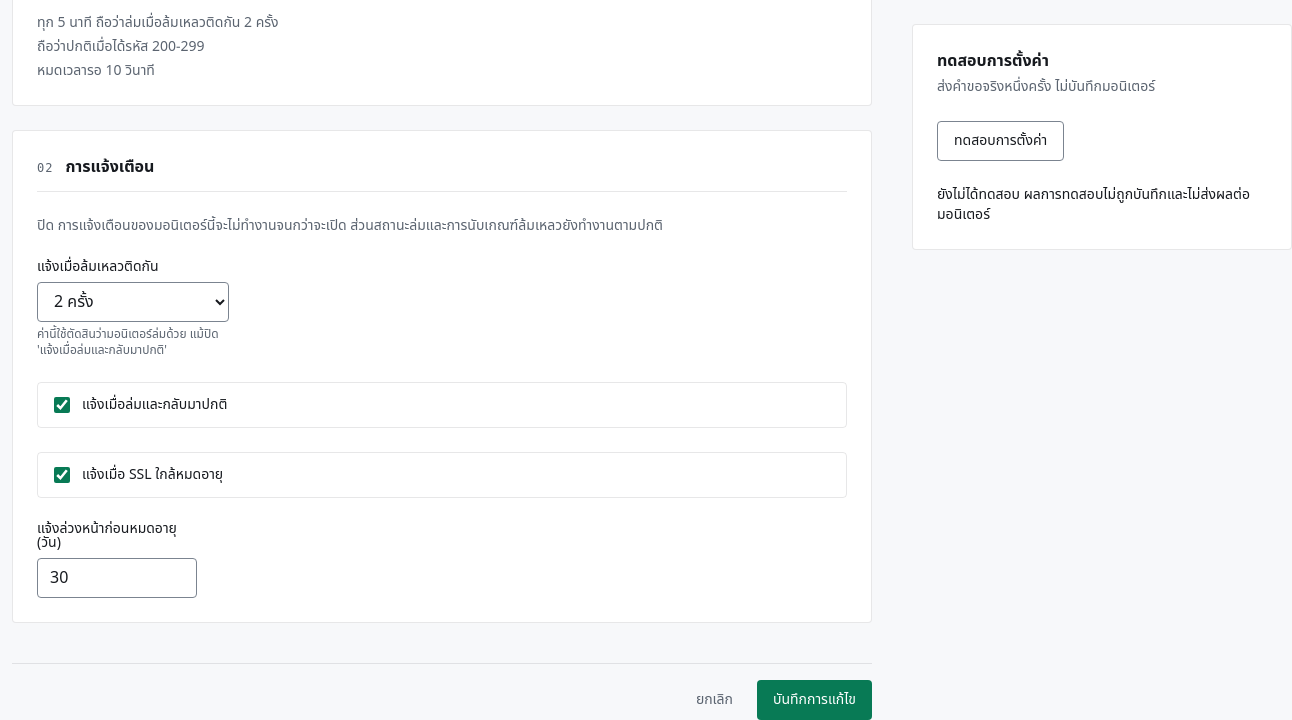
Edit save › shows denied with no data when the user was removed from the Organization
(page scrolled)
What coordinates should you click on to do the following:
click the button with test id "monitor-form-save"
I would click on:
 (814, 700)
Its box is [757,680,872,719].
(page scrolled)
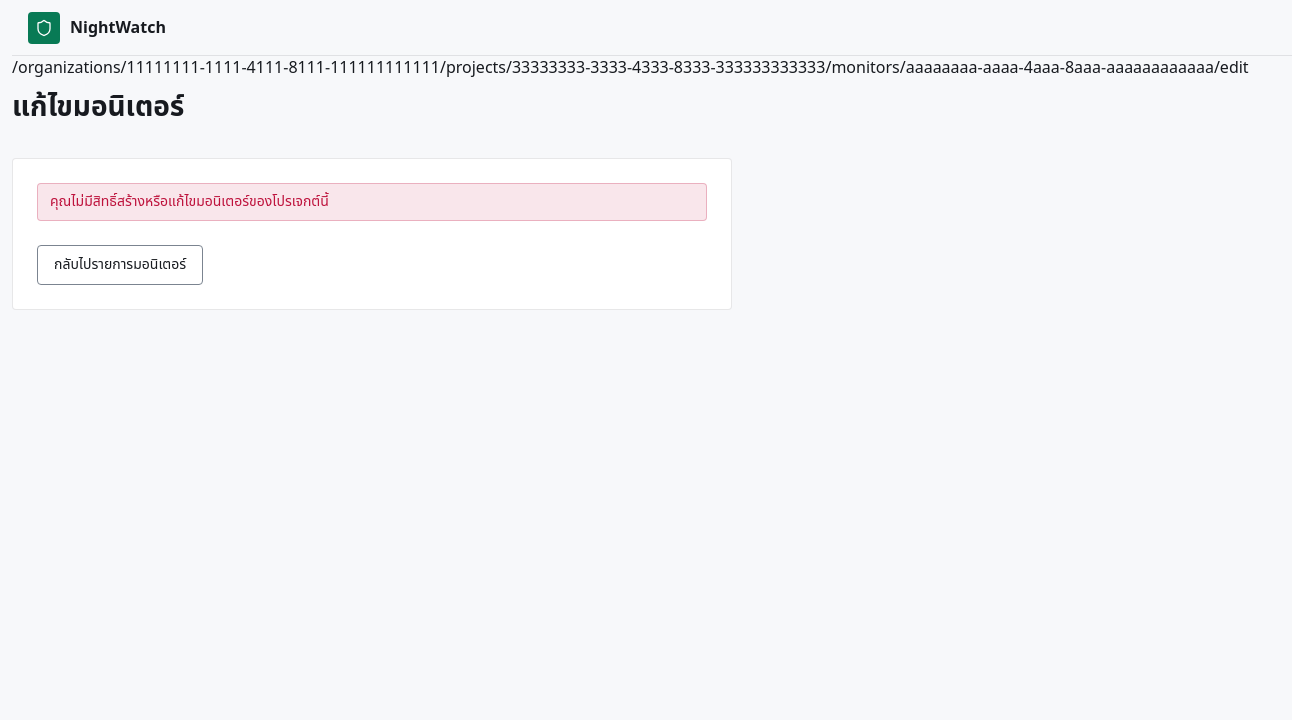
Expected: the element with test id "monitor-form-denied" is shown, [12,158,732,310]
